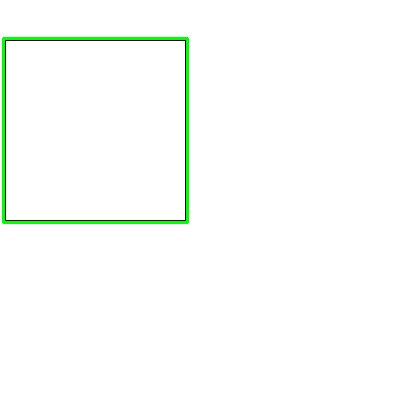line_segment: (2, 37, 189, 224)
